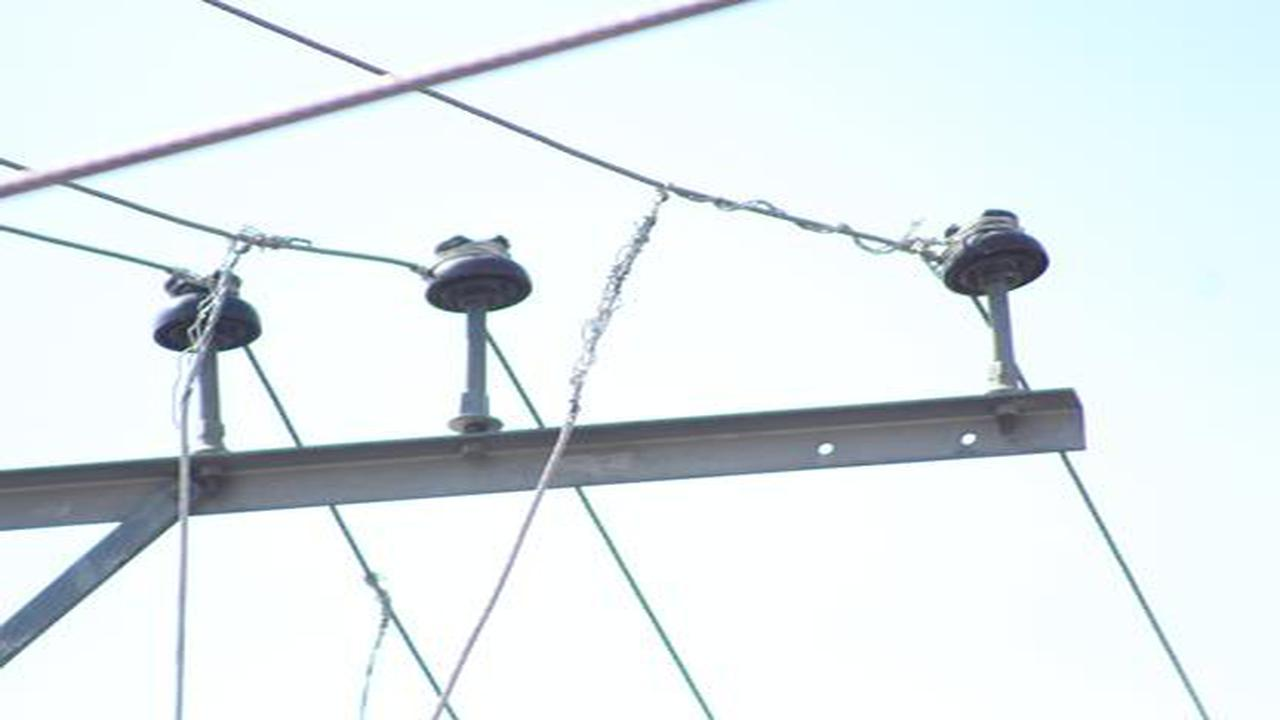insulator_pin: (933, 199, 1058, 301), (421, 228, 537, 315), (150, 265, 262, 351)
